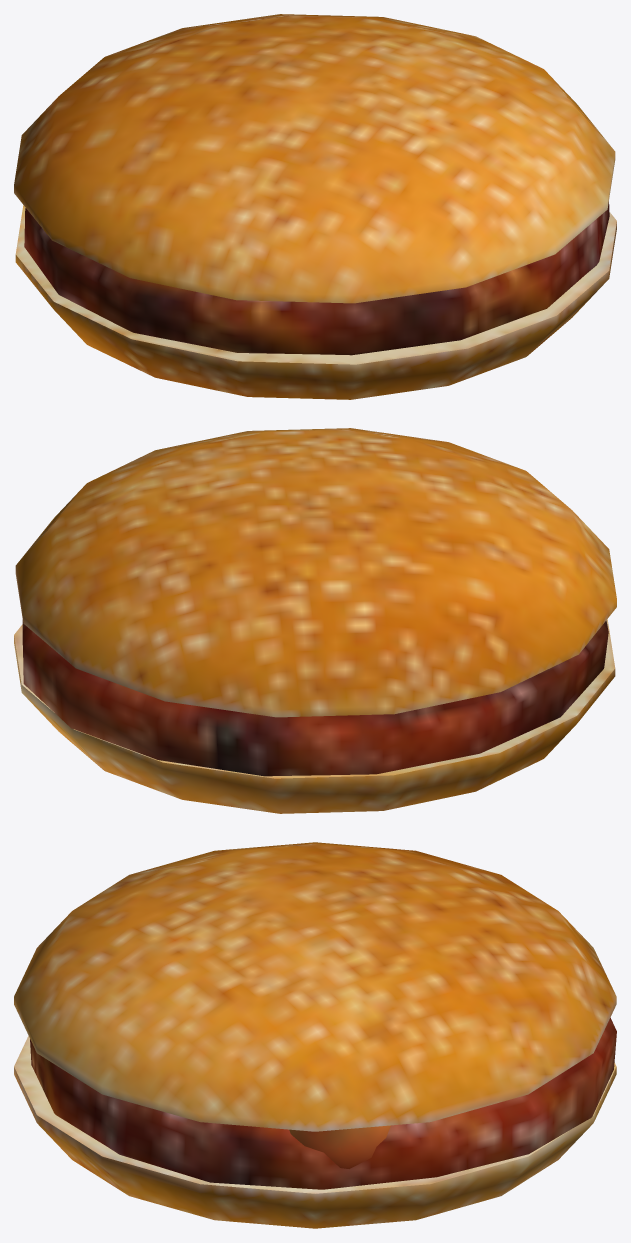
The model's file is human_burger_1.fbx.
The picture shows the model from 3 angles, top to bottom: view 1: azimuth 30°, elevation 25°; view 2: azimuth 150°, elevation 25°; view 3: azimuth 270°, elevation 25°; orthographic projection.
Visible parts, largest first — view 1: human_burger_1; view 2: human_burger_1; view 3: human_burger_1.
Boxes of the visible parts, box(x1,y1,x2,y2) form: human_burger_1: box(14, 14, 616, 399); human_burger_1: box(14, 428, 616, 813); human_burger_1: box(14, 842, 616, 1228).
Bounding box in the file's own units: 12.01 × 5.76 × 11.98.
